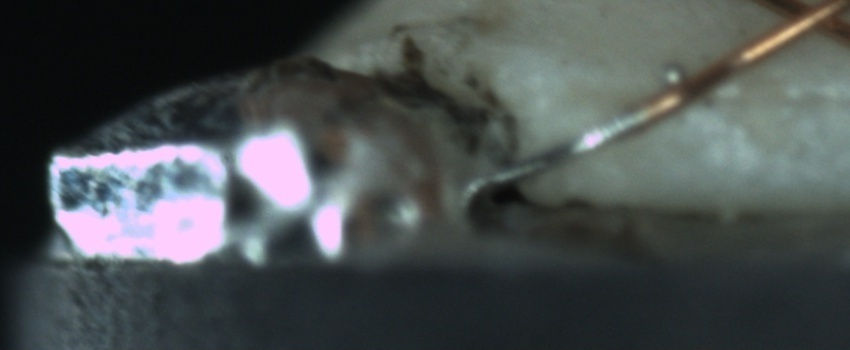CL: (760, 0, 846, 45)
DL: (691, 67, 849, 133)
TS: (489, 107, 643, 191)
TTCW: (479, 82, 674, 192)
